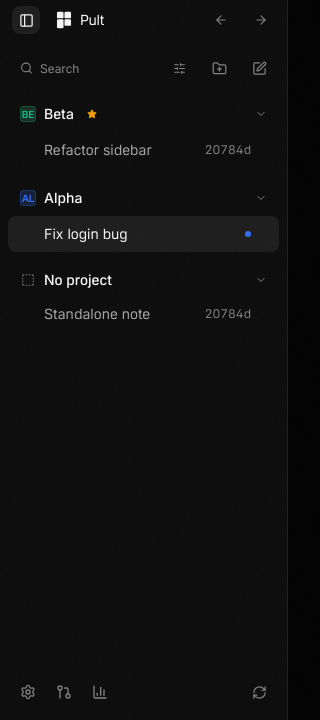
Test: Sidebar › renders 'No project' row in project shape, without a count, with a collapse chevron and pl-9 thread links
Expected: the icon with class "lucide-square-dashed" is shown, [21,273,35,287]
Expected: the text "Standalone note" is shown, [44,304,150,324]
Click the 3rd button named "Collapse project" at (261, 280), box [251,270,271,290]
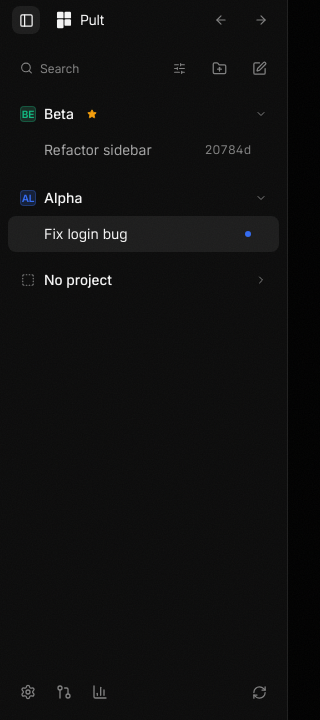
Now the link "Standalone note" is gone
Now the button named "Expand project" is collapsed, box [251,270,271,290]
